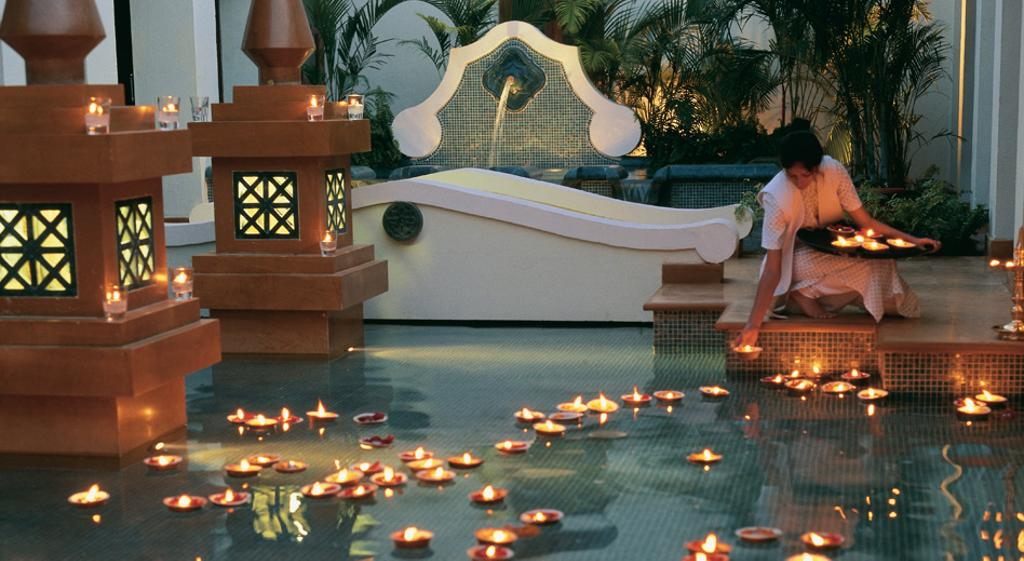face: (785, 163, 813, 189)
